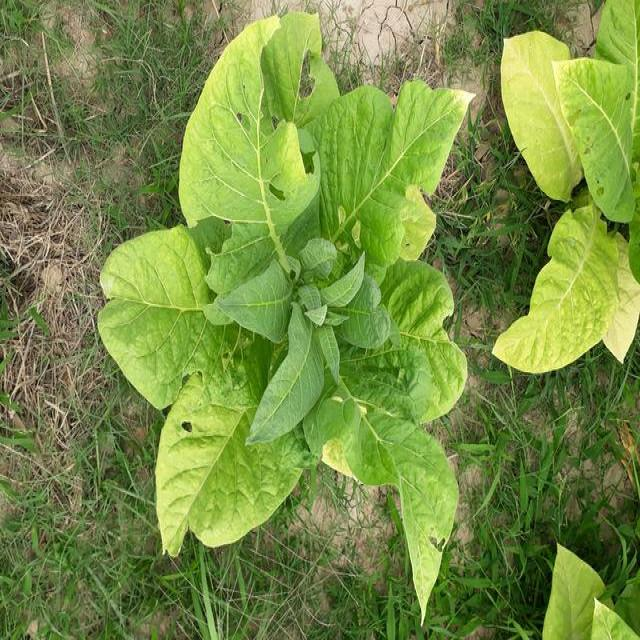crop: (105, 4, 471, 601), (494, 3, 640, 362)
